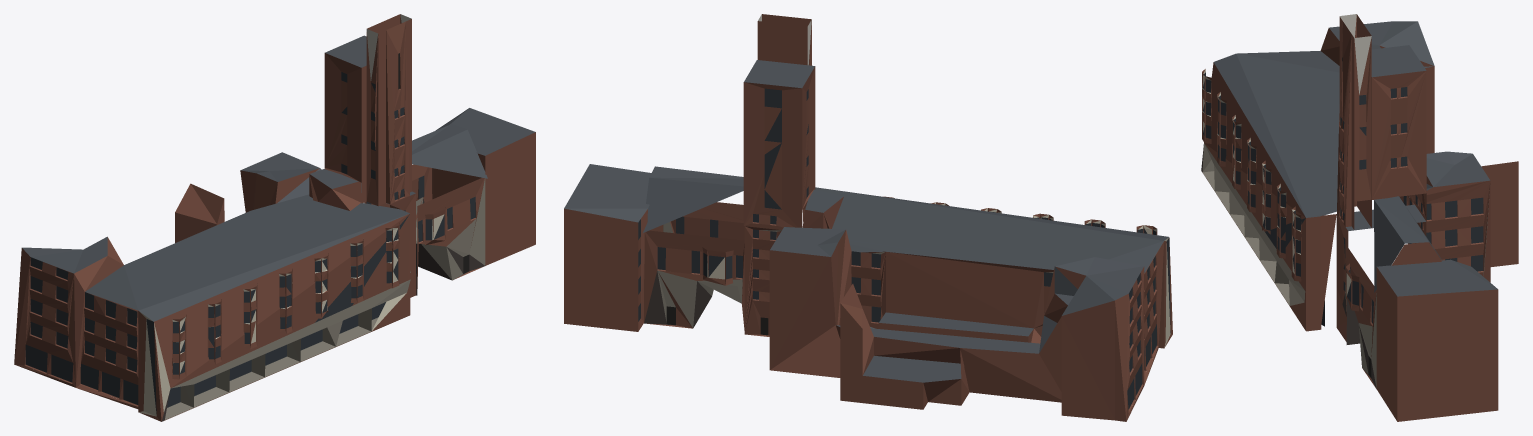
The model's file is mercatorplein-noordtoren.lod2.glb.
3 renders of one model, left to right at view 1: azimuth 30°, elevation 25°; view 2: azimuth 150°, elevation 25°; view 3: azimuth 270°, elevation 25°, orthographic. The views are drawn at different scales.
Parts seen in each view (by area): view 1: lod2; view 2: lod2; view 3: lod2.
Boxes of the visible parts, box(x1,y1,x2,y2) form: lod2: box(14, 14, 535, 421); lod2: box(564, 14, 1172, 421); lod2: box(1201, 14, 1518, 421).
Bounding box in the file's own units: 73.19 × 37.41 × 35.16.
